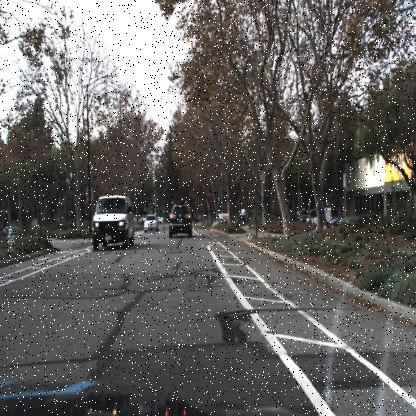car: (88, 190, 136, 252), (166, 204, 194, 240), (143, 213, 158, 232)
truck: (307, 206, 332, 224)
